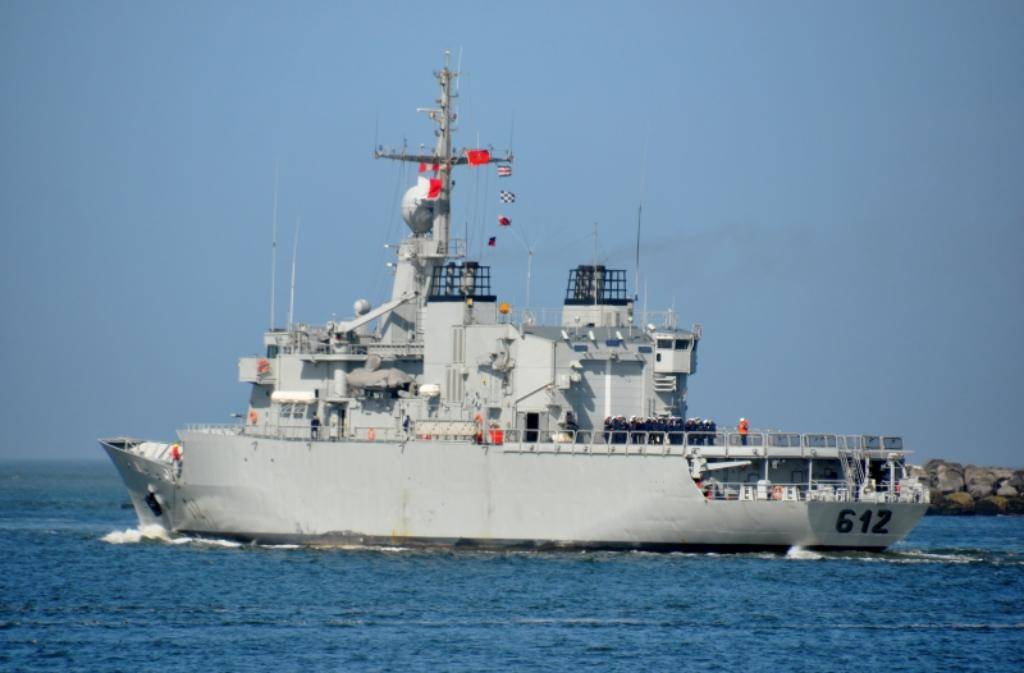Warship: (94, 55, 932, 552)
